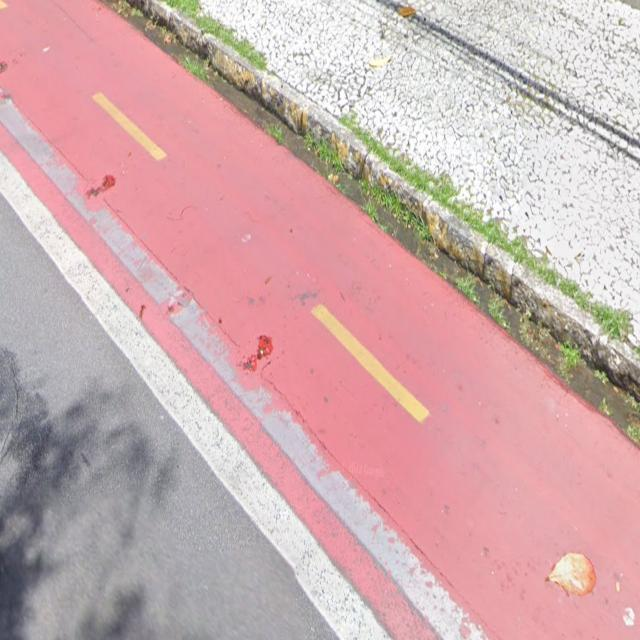Buraco: (225, 310, 282, 392), (79, 157, 119, 214), (0, 48, 13, 87)
